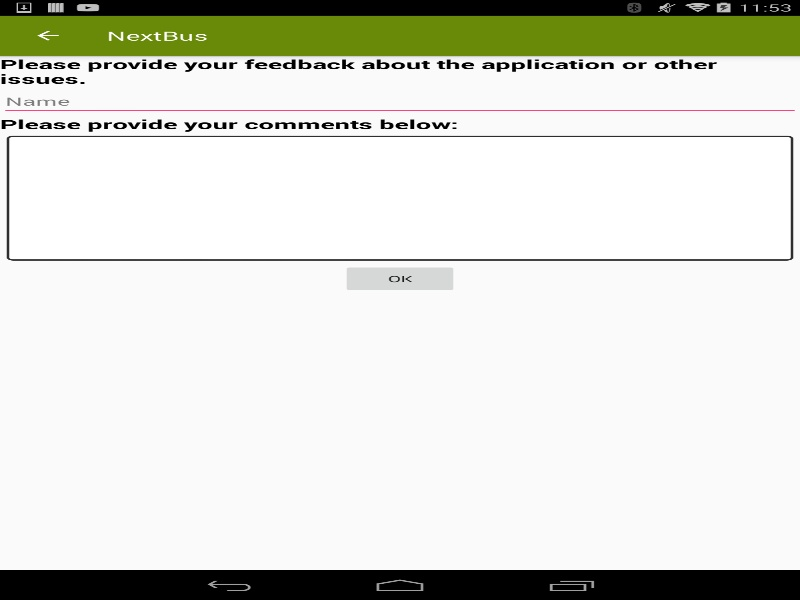Button: (341, 263, 458, 293), (10, 15, 85, 55)
Input: (0, 87, 800, 115)
